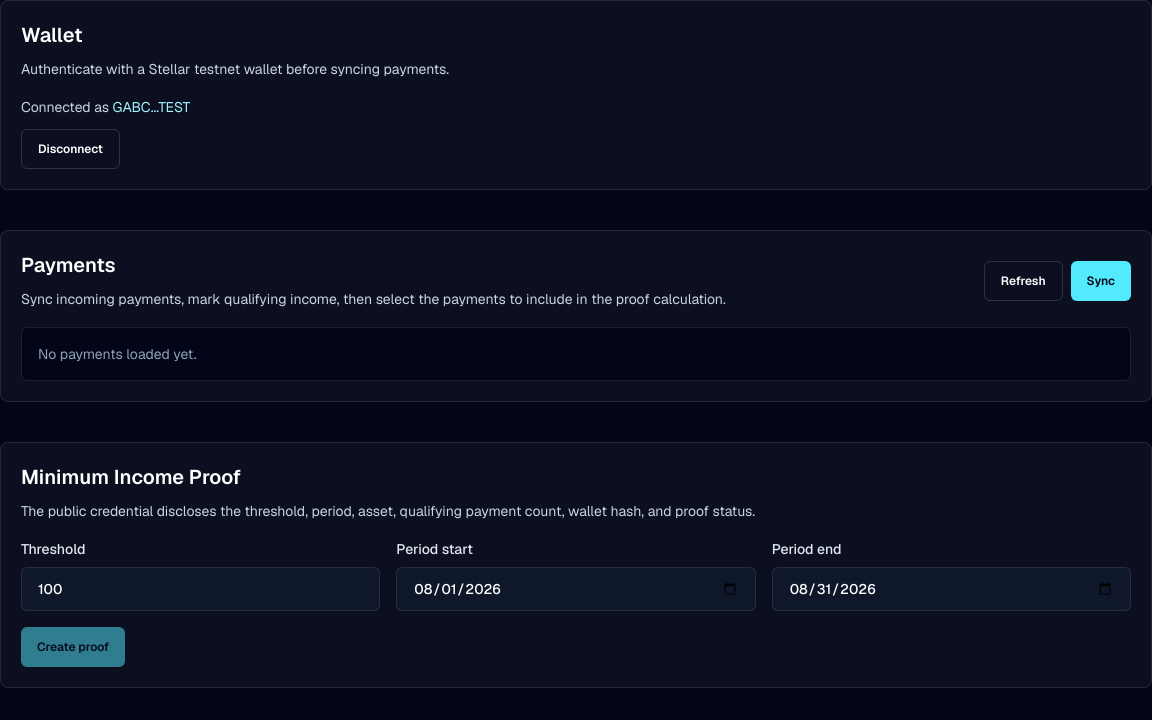
CreateProofFlow payment loading state › renders loaded payment rows after sync resolves
Click the button "Sync" at [1101, 281], box [1071,261,1131,301]
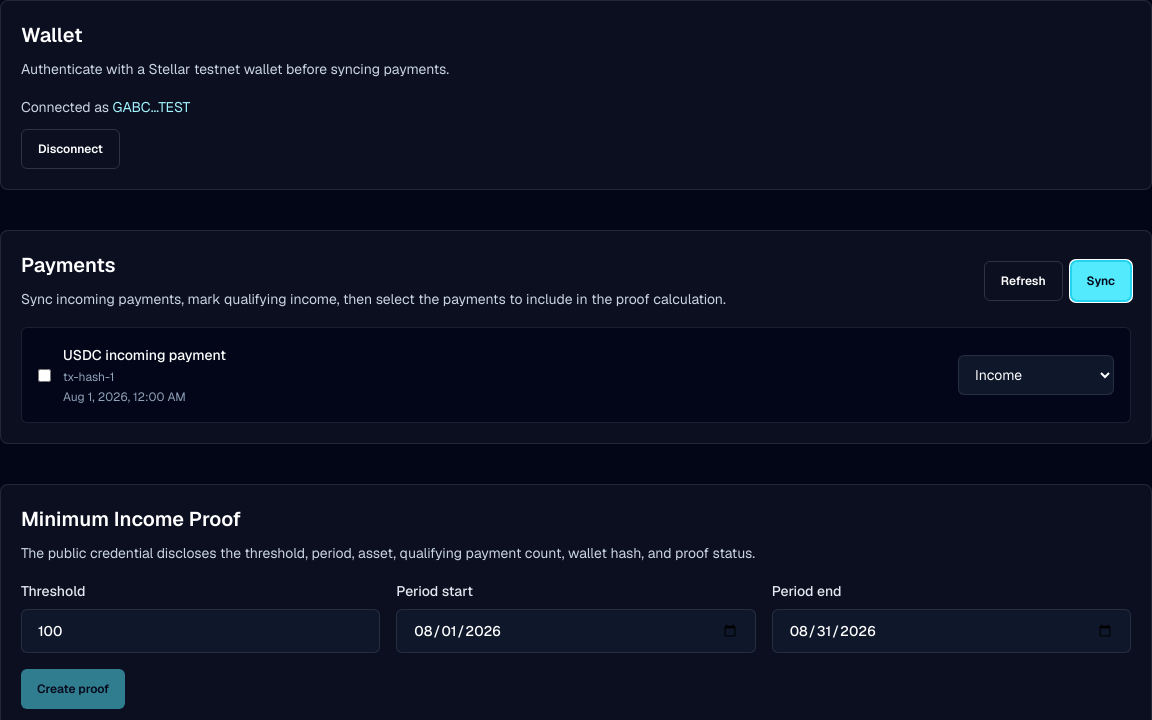
Expected: the text "USDC incoming payment" is shown, [63,346,226,364]
